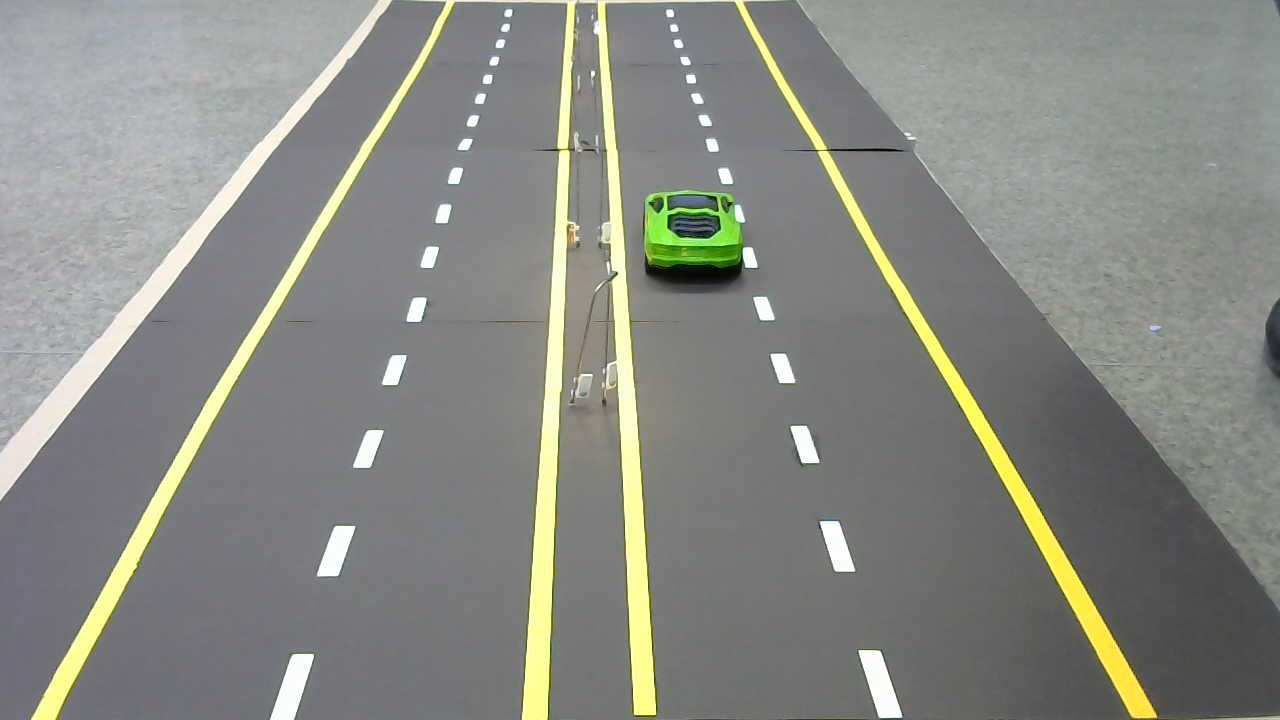back_car: (639, 186, 749, 283)
